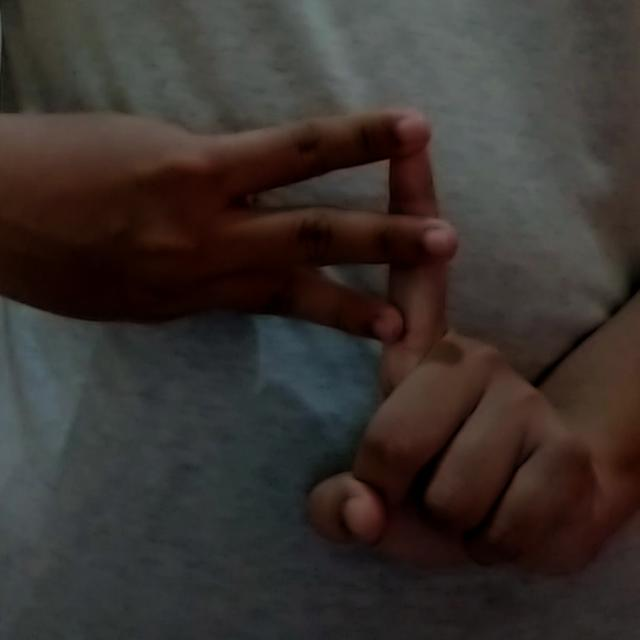B: (18, 92, 616, 591)
